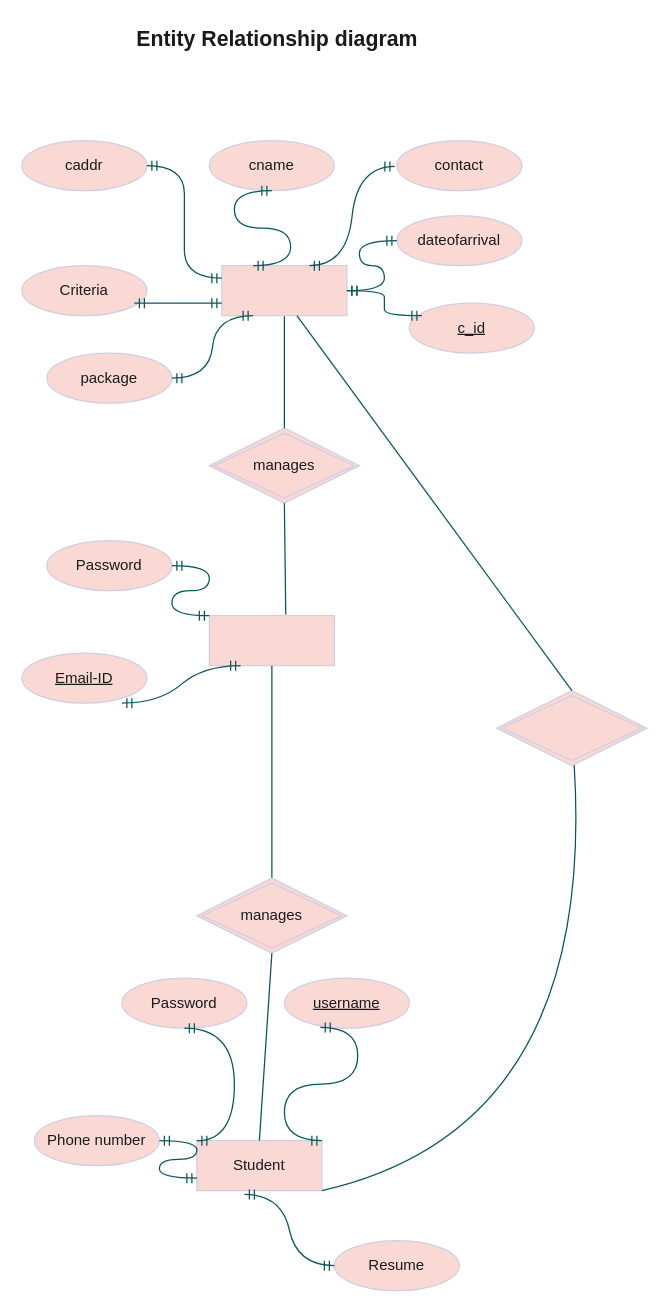
This 669x1313 diagram has some shape labels left out. The centre of each missing label's shape, as x and y in pixels:
"Admin" belongs at (x=271, y=640).
"Applies" belongs at (x=571, y=727).
"Company" belongs at (x=284, y=290).
